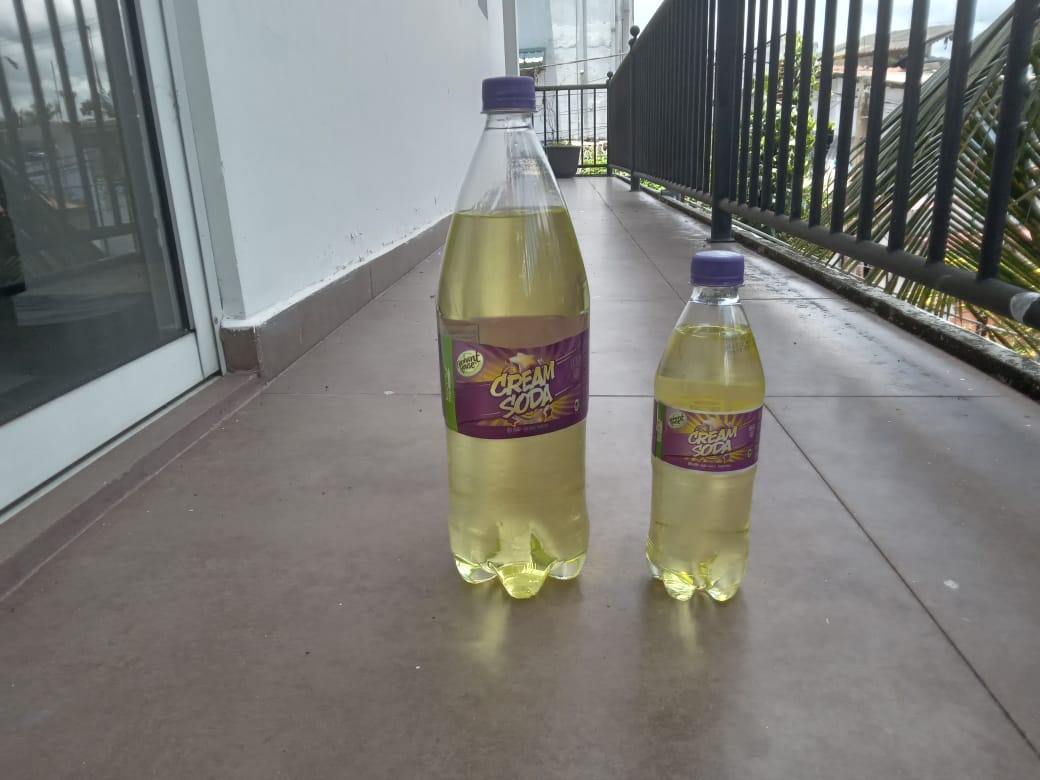L: (433, 73, 591, 602)
S: (648, 251, 764, 604)
